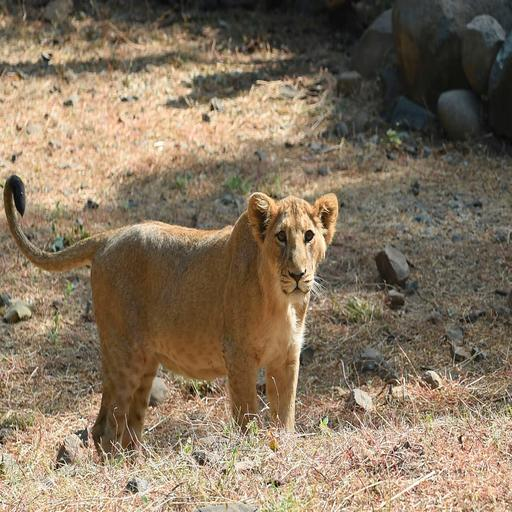Lion: (0, 143, 336, 472)
